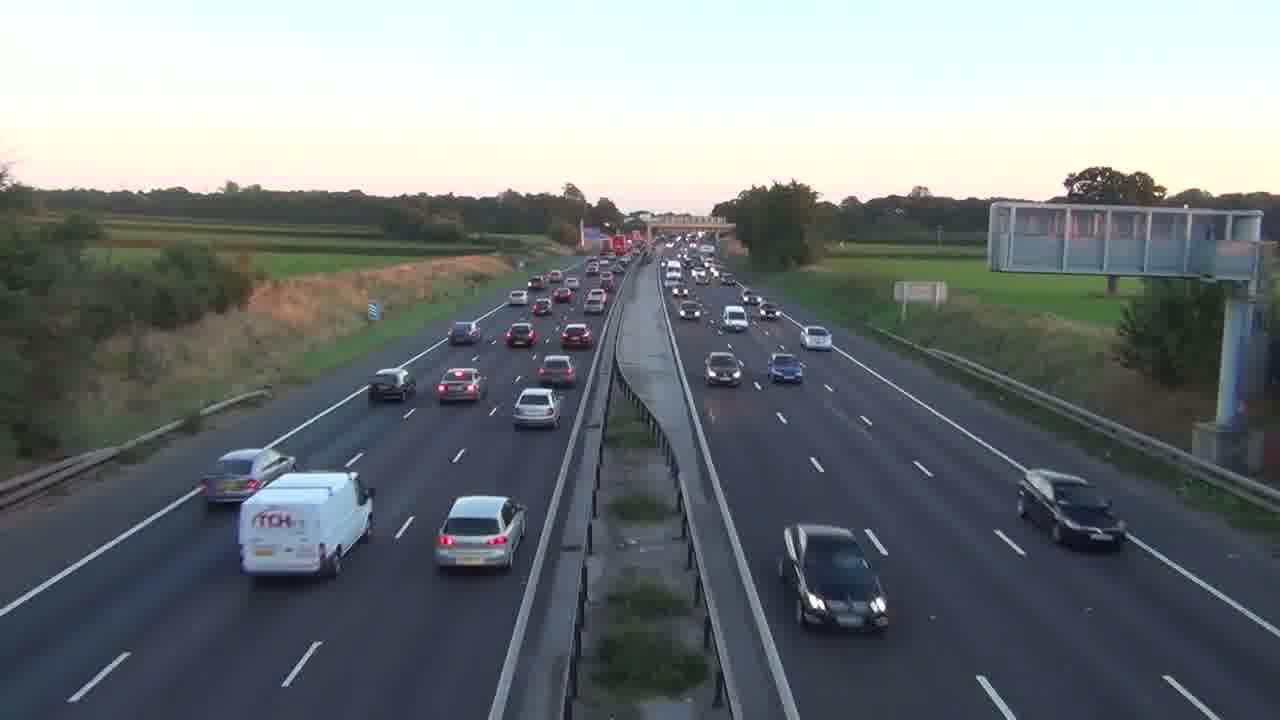car: (779, 522, 890, 633), (432, 494, 527, 575), (512, 387, 560, 430), (367, 367, 416, 404), (435, 367, 482, 404), (704, 349, 744, 388), (535, 353, 577, 388), (767, 354, 806, 386), (558, 323, 594, 350), (505, 321, 536, 348)
truck: (236, 469, 375, 580), (1015, 467, 1128, 552), (198, 446, 297, 505)
